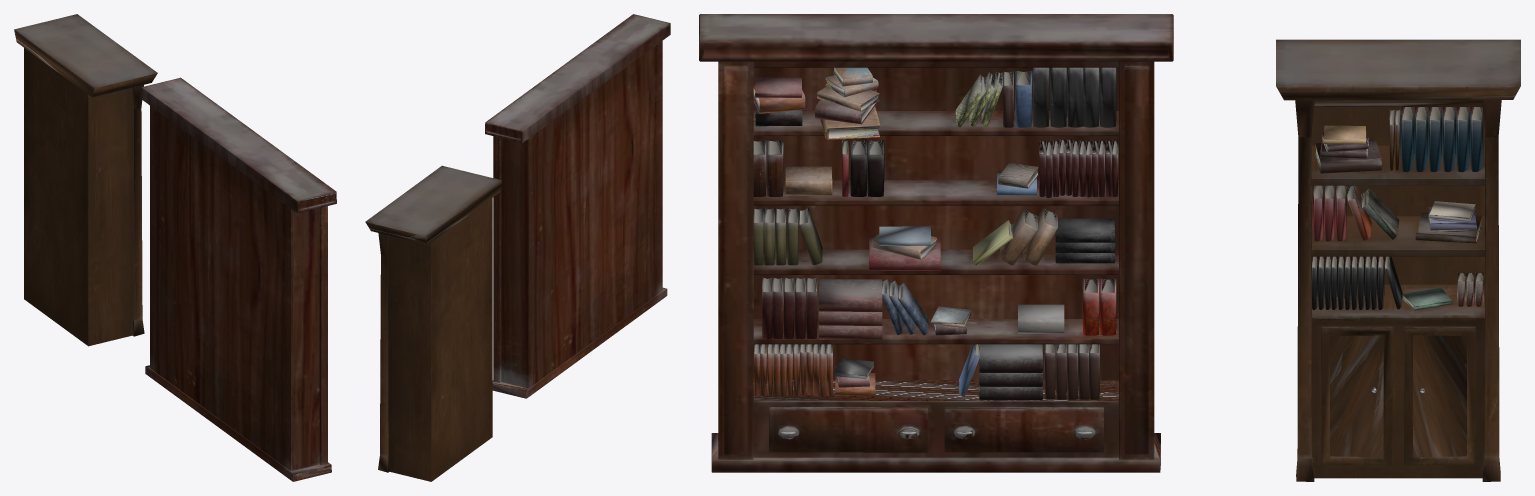
Rendered from dusty_bookshelfs.glb.
3 renders of one model, left to right at view 1: azimuth 30°, elevation 25°; view 2: azimuth 150°, elevation 25°; view 3: azimuth 270°, elevation 25°, orthographic. The views are drawn at different scales.
Parts seen in each view (by area): view 1: bokkshelf', Cube_Cube.001, Cube.001_Cube.002; view 2: bokkshelf', Cube_Cube.001, Cube.001_Cube.002; view 3: bokkshelf', books, Cube_Cube.001, Cube.004_Cube.005, Cube.001_Cube.002, Cube.003_Cube.004, book.017_Cube.021, book.012_Cube.016, book.031_Cube.035, book.007_Cube.011, book.004_Cube.008, book.005_Cube.009 (+3 smaller).
Boxes of the visible parts, x1,y1,x2,y2 form: bokkshelf': (141,77,336,481); Cube_Cube.001: (14,14,157,346); Cube.001_Cube.002: (132,85,144,336); bokkshelf': (485,14,670,398); Cube_Cube.001: (365,165,501,481); Cube.001_Cube.002: (378,233,389,472); bokkshelf': (699,14,1173,472); books: (753,67,1118,400); Cube_Cube.001: (1276,39,1520,478); Cube.004_Cube.005: (1321,326,1475,465); Cube.001_Cube.002: (1295,100,1501,481); Cube.003_Cube.004: (1311,145,1485,256); book.017_Cube.021: (1315,139,1381,173); book.012_Cube.016: (1415,212,1481,243); book.031_Cube.035: (1361,188,1399,239); book.007_Cube.011: (1400,107,1414,172); book.004_Cube.008: (1469,107,1483,171); book.005_Cube.009: (1456,107,1469,172).
Size of the model in its own units: 0.7013 by 3.04 by 5.2.
4 materials, 4 textured.
